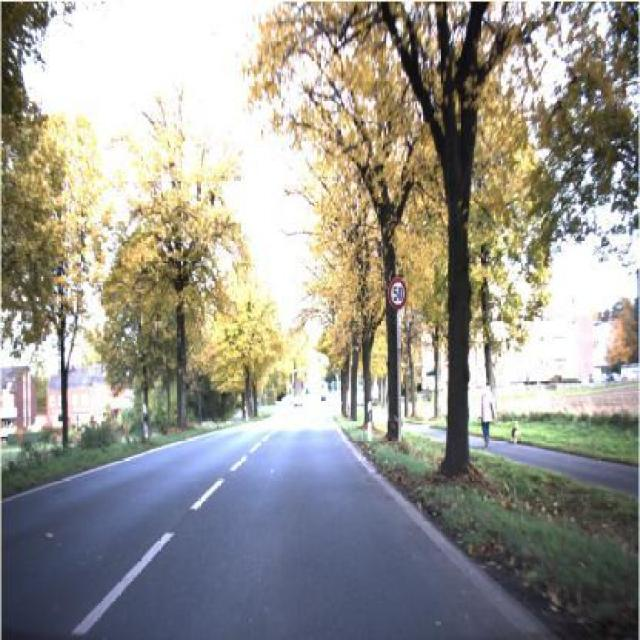Ograniczenie predkosci do 50: (387, 274, 408, 312)
